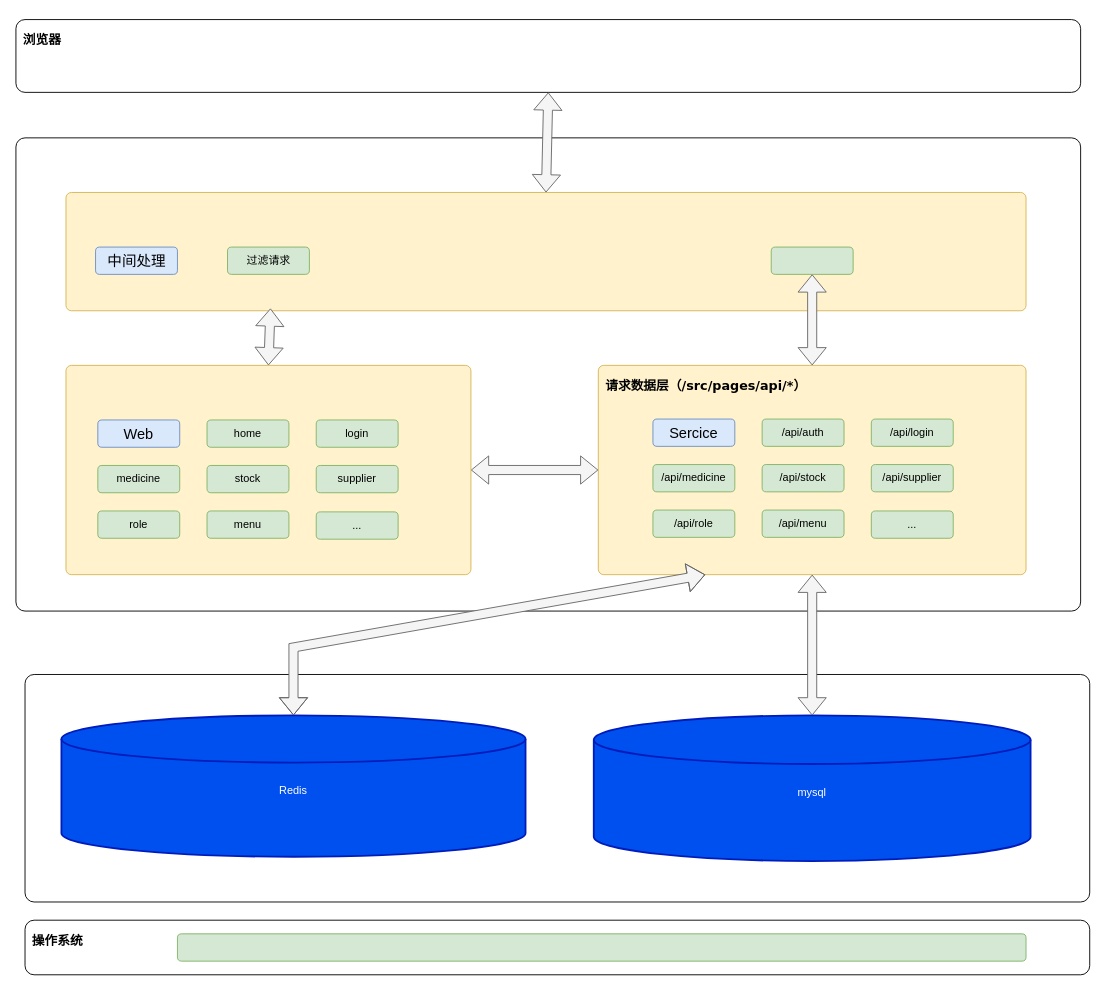
The diagram is 1106 pixels wide and 991 high, and some of its shapes have lost their labels. Each missing label, with the box of its shape:
Linux: (177, 933, 1026, 961)
NextJS: (15, 137, 1081, 611)
中间层（/src/middware.ts）: (65, 192, 1026, 311)
数据库: (24, 674, 1090, 902)
请求数据层（/src/app/*）: (65, 364, 471, 575)
鉴权: (770, 246, 853, 274)
